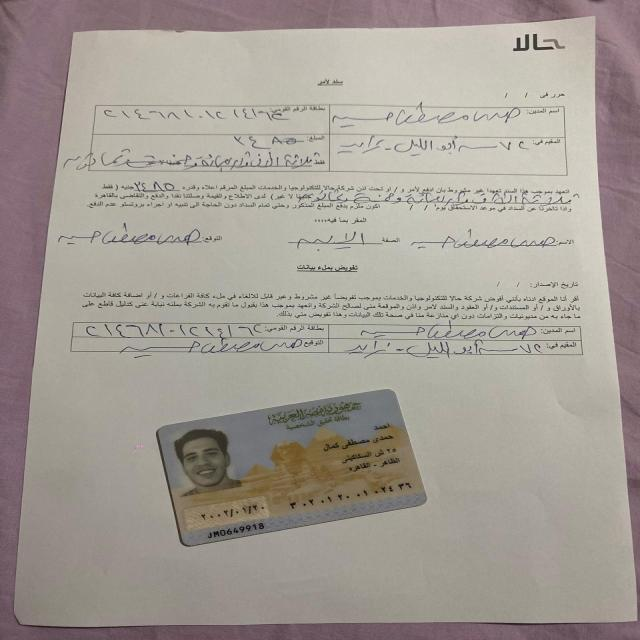id_card: (149, 384, 440, 553)
